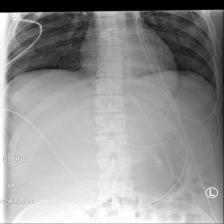normal: (1, 11, 223, 176)
